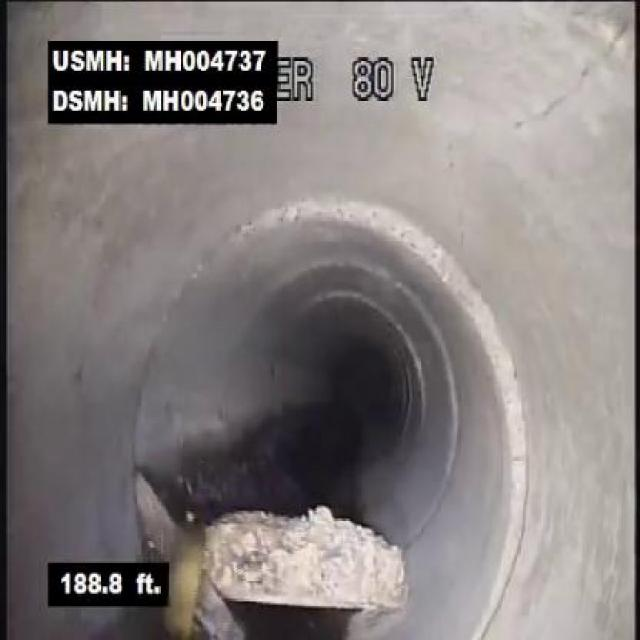Obstacle: (172, 463, 425, 639)
